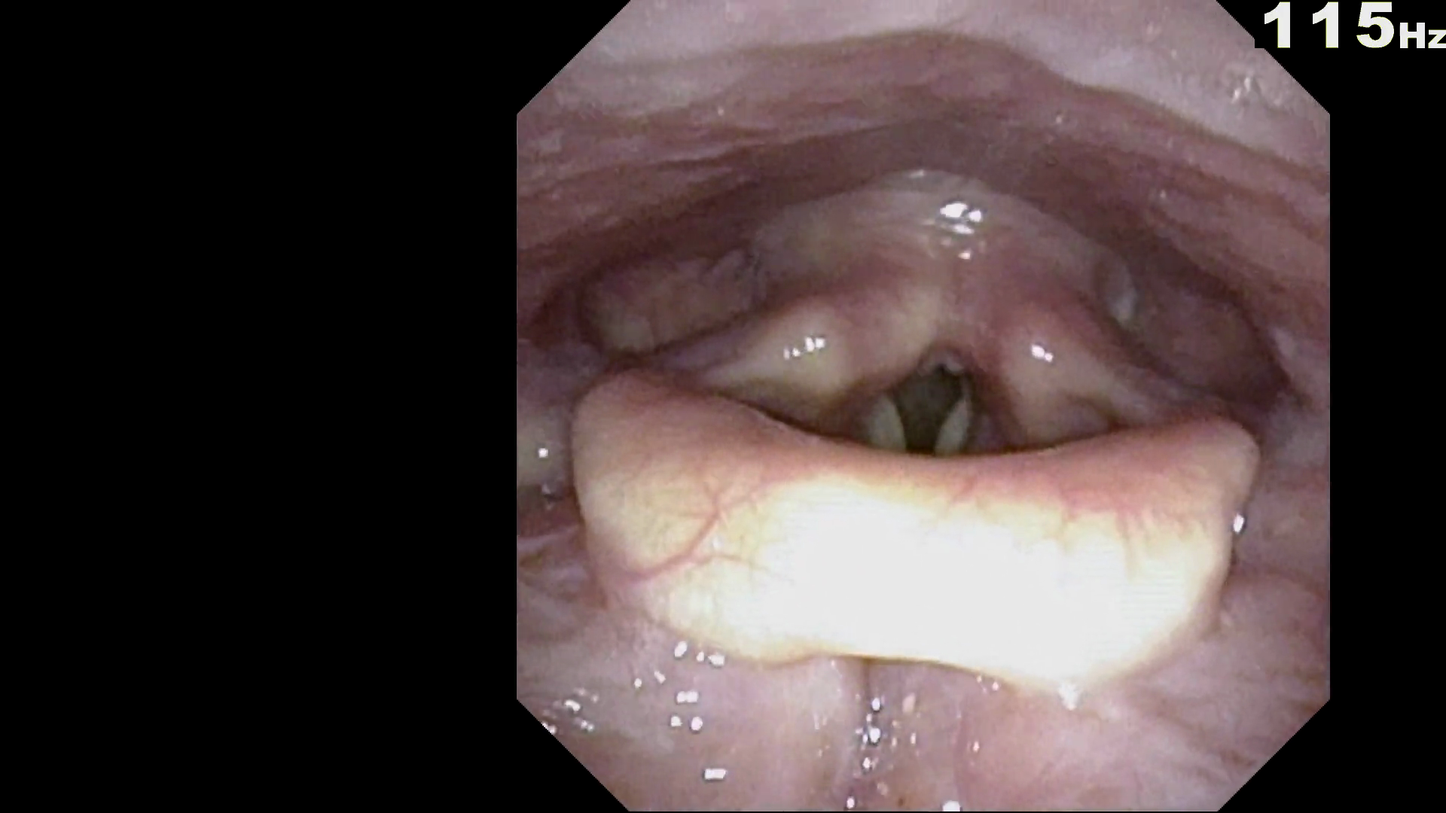epiglottis: (559, 339, 1280, 694)
trachea: (849, 301, 1027, 526)
